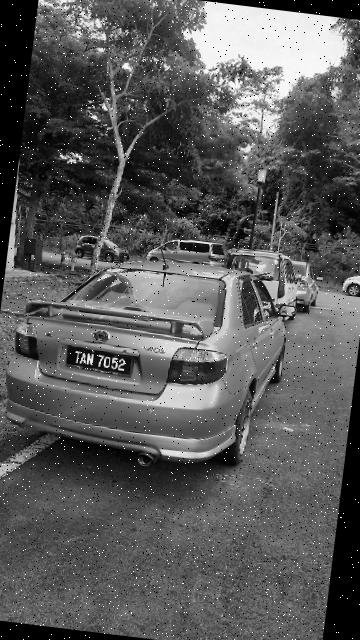License_Plate: (62, 343, 137, 381)
car: (1, 241, 301, 486)
